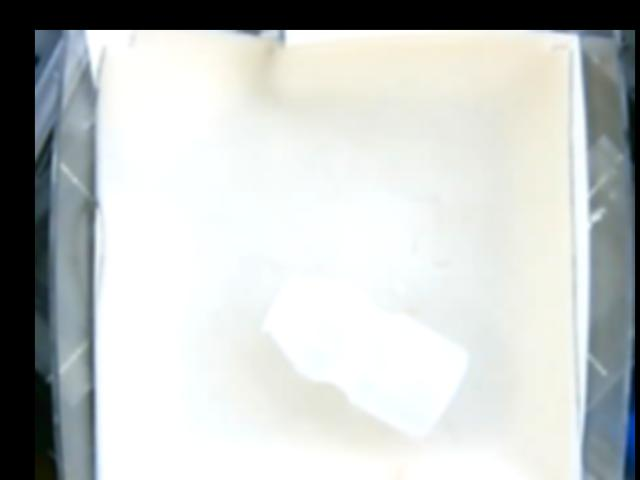Bottle: (259, 273, 466, 436)
